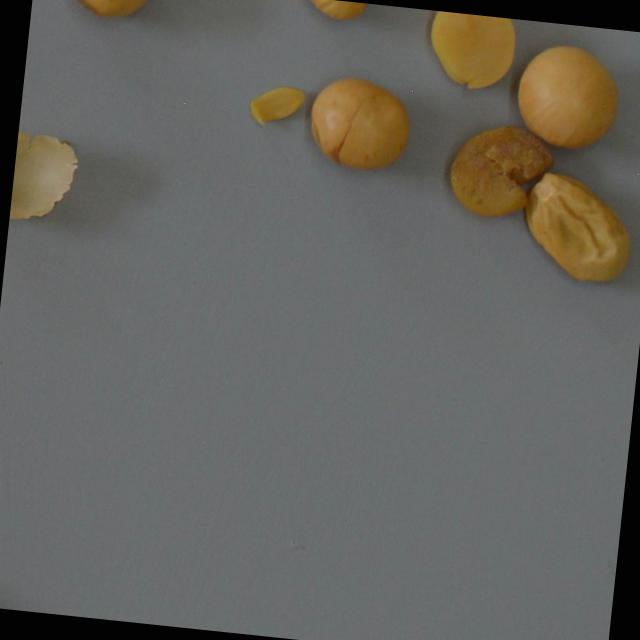cuerpos_extranos: (512, 164, 640, 288), (511, 32, 630, 159), (436, 115, 558, 228), (300, 67, 416, 175), (413, 9, 526, 103), (8, 126, 87, 235), (241, 75, 307, 140), (54, 0, 163, 27), (285, 0, 374, 29)
